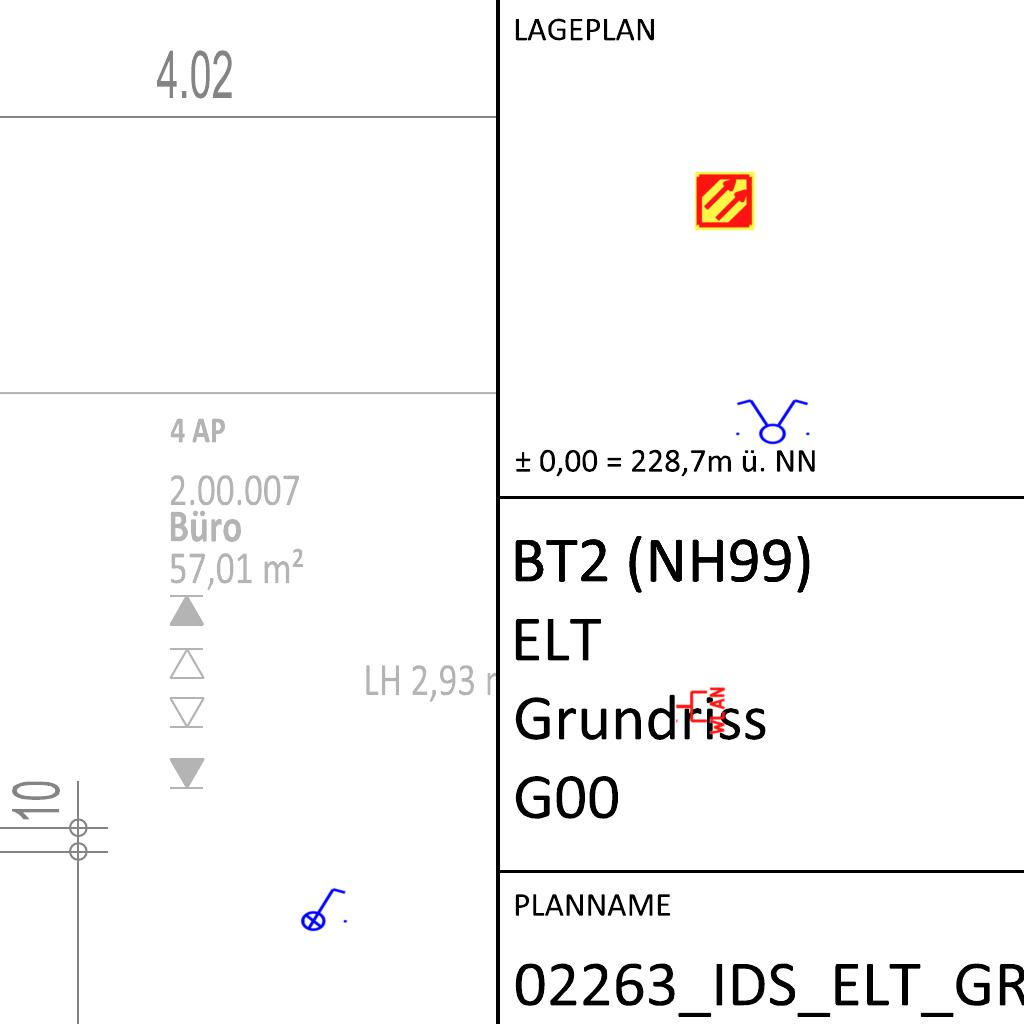ASR_Ansaugrauchmelder: (693, 169, 757, 233)
Ausschalter_beleuchtet: (294, 884, 350, 932)
Serienschalter: (730, 397, 814, 445)
WLAN: (674, 685, 726, 737)
